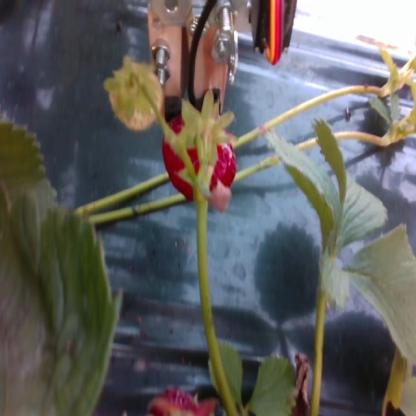ripe: (164, 118, 237, 196), (150, 387, 216, 416)
unripe: (104, 60, 166, 135)
